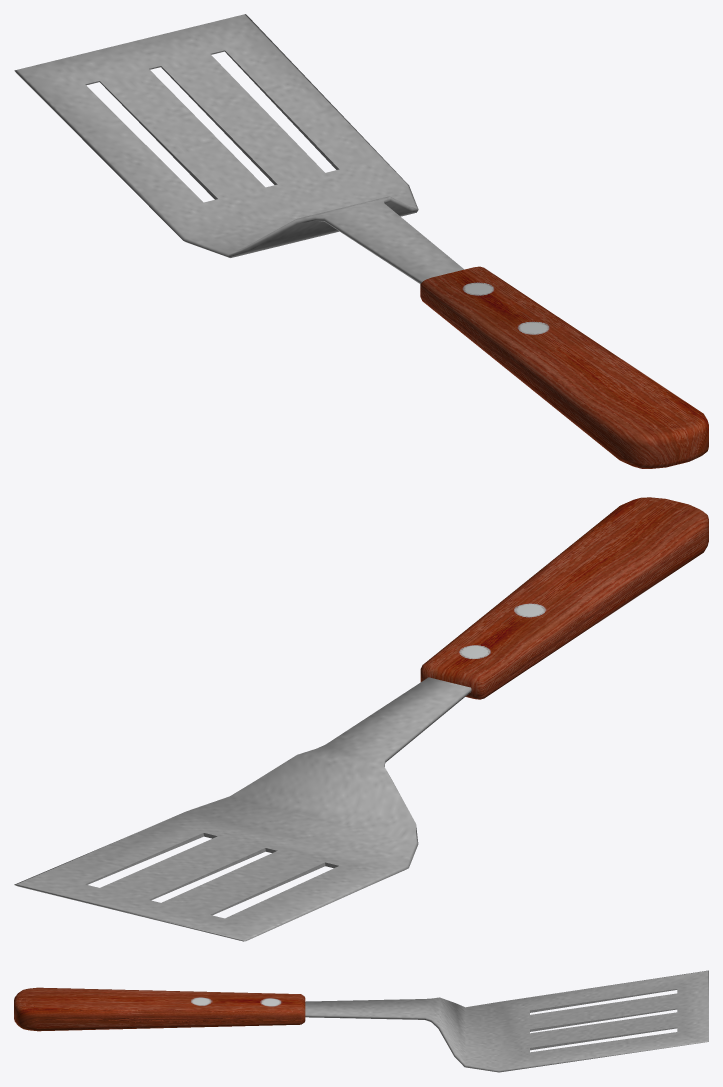
File: GardenKitchenTool01_1.FBX
3 views of the same model, one above another, from view 1: azimuth 30°, elevation 25°; view 2: azimuth 150°, elevation 25°; view 3: azimuth 270°, elevation 25° (orthographic). The views are drawn at different scales.
Visible parts, largest first — view 1: GardenKitchenTool01_1; view 2: GardenKitchenTool01_1; view 3: GardenKitchenTool01_1.
Boxes of the visible parts, bbox=[...] form: GardenKitchenTool01_1: bbox=[14, 14, 708, 468]; GardenKitchenTool01_1: bbox=[14, 497, 708, 941]; GardenKitchenTool01_1: bbox=[14, 970, 708, 1072].
Size of what is drawn, in the model's own units: 0.0824 by 0.0214 by 0.3387.
